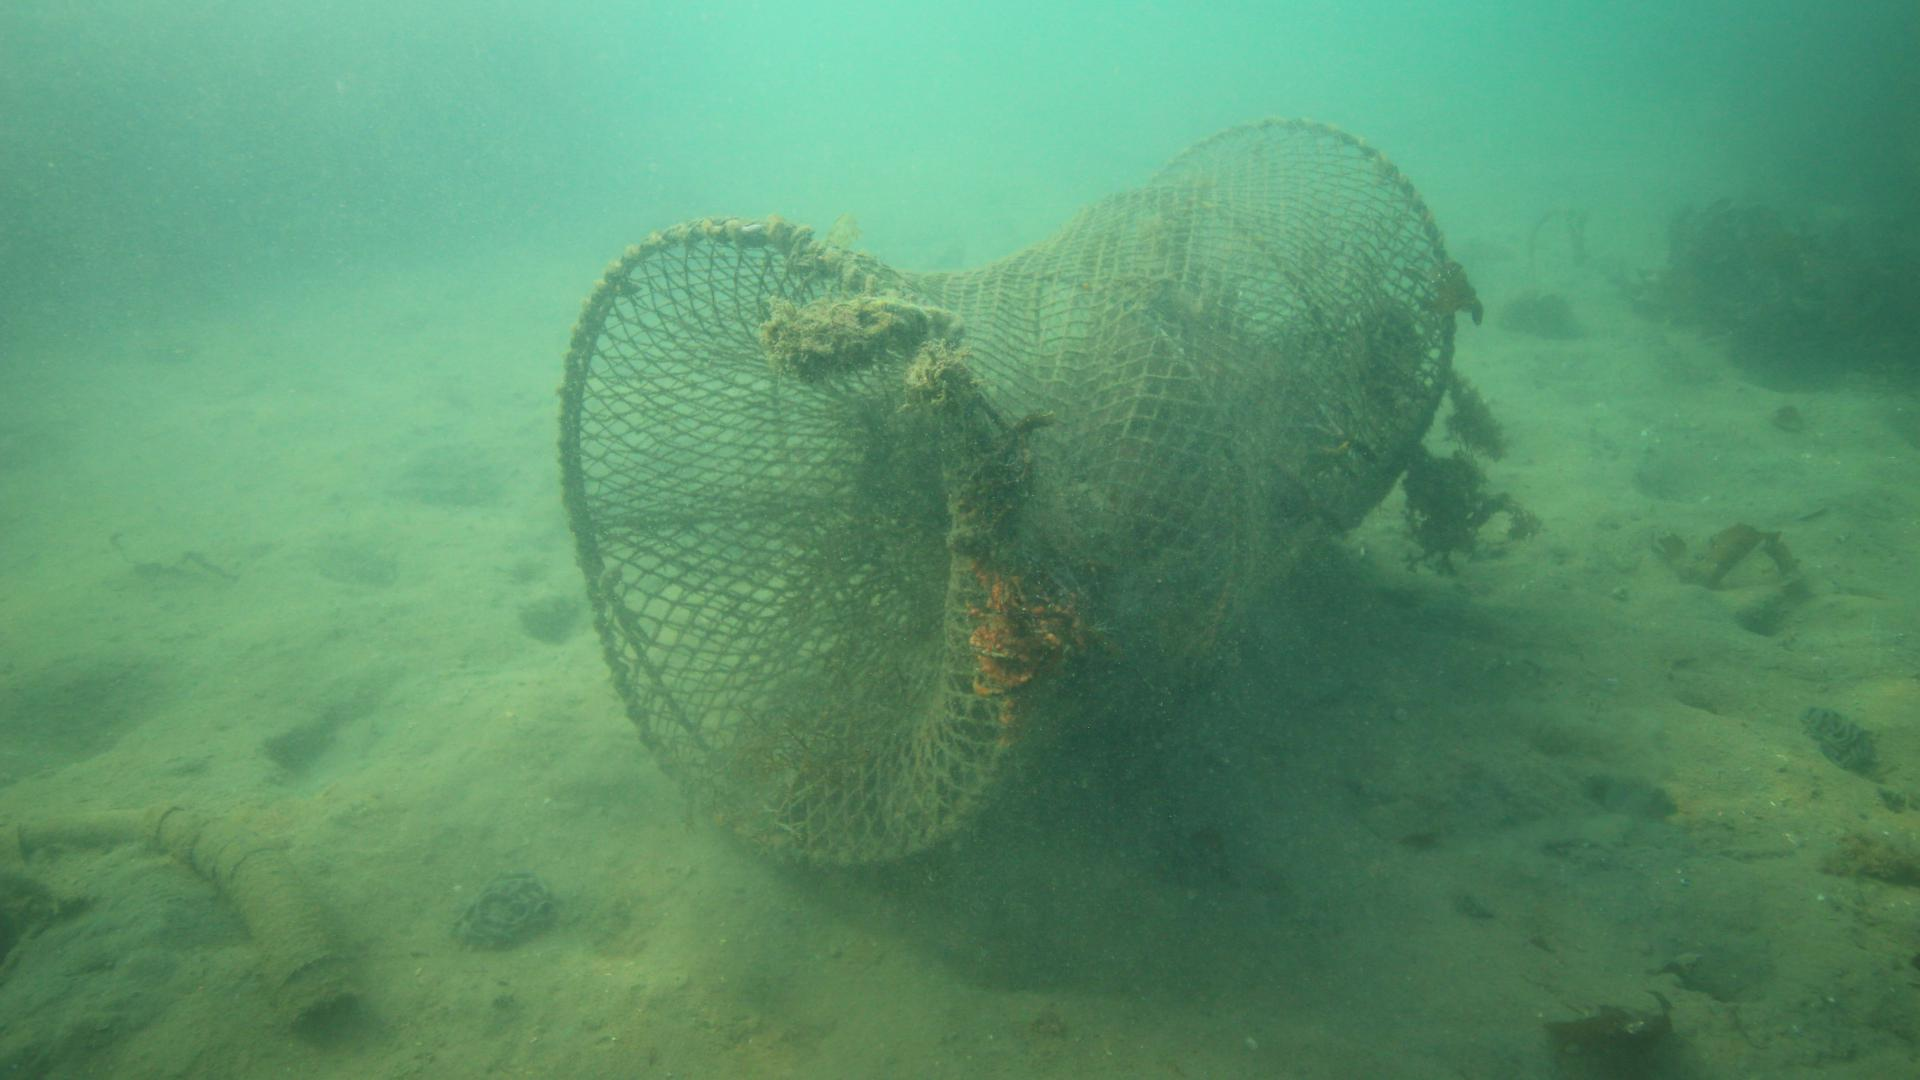spring fish trap: (555, 115, 1457, 870)
